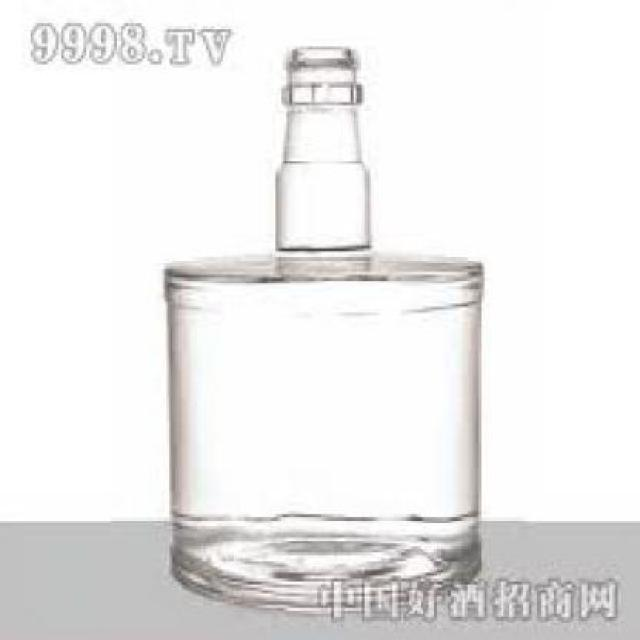kaca: (162, 42, 482, 608)
